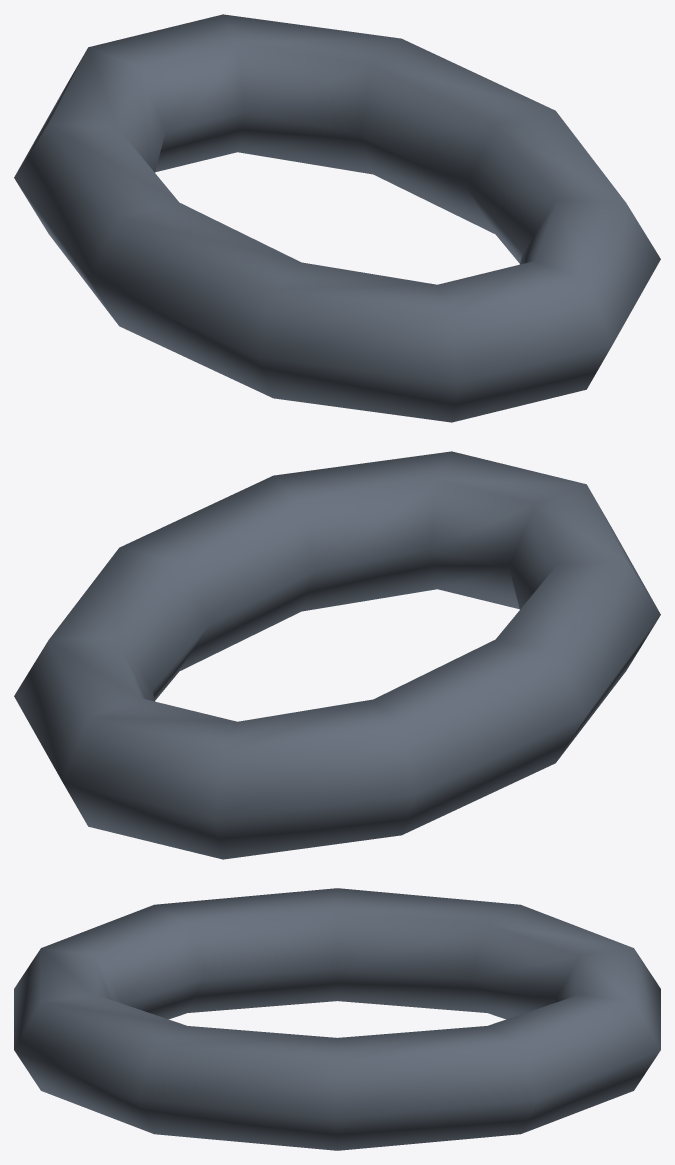
The model's file is chain_link.glb.
3 renders of one model, top to bottom at view 1: azimuth 30°, elevation 25°; view 2: azimuth 150°, elevation 25°; view 3: azimuth 270°, elevation 25°, orthographic. The views are drawn at different scales.
Visible parts, largest first — view 1: ChainLink; view 2: ChainLink; view 3: ChainLink.
Boxes of the visible parts, bbox=[...] form: ChainLink: bbox=[14, 14, 660, 422]; ChainLink: bbox=[14, 451, 660, 859]; ChainLink: bbox=[14, 888, 660, 1150].
Bounding box in the file's own units: 0.132 × 0.0277 × 0.1826.
